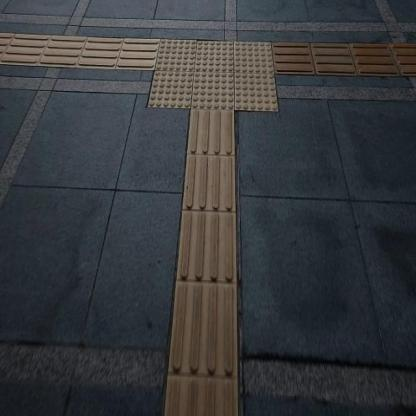podotacti: (164, 110, 240, 414), (126, 12, 302, 141), (0, 30, 154, 71), (276, 39, 416, 75)
